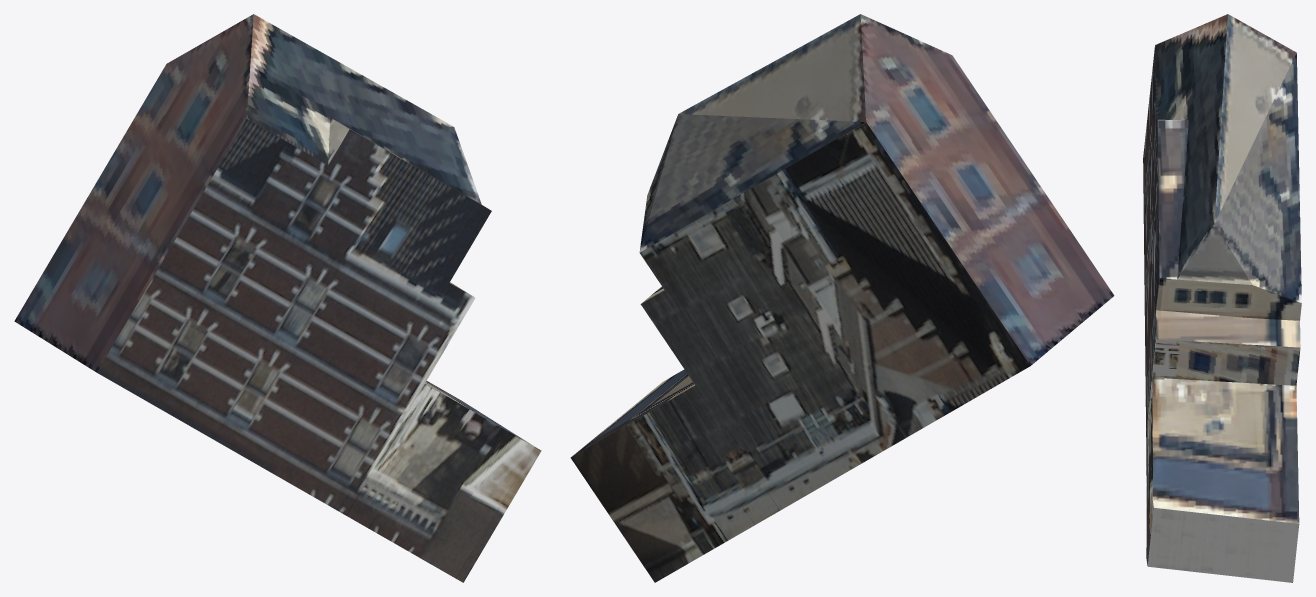
3 views of the same model, side by side, from view 1: azimuth 30°, elevation 25°; view 2: azimuth 150°, elevation 25°; view 3: azimuth 270°, elevation 25° (orthographic). The views are drawn at different scales.
Visible parts, largest first — view 1: BAG_0599100000671567 (×5); view 2: BAG_0599100000671567 (×3); view 3: BAG_0599100000671567 (×4).
Part boxes in pixels (box(x1,y1,x2,y2)): BAG_0599100000671567 (×5): box(14, 14, 541, 582); BAG_0599100000671567 (×3): box(570, 14, 1114, 582); BAG_0599100000671567 (×4): box(1143, 14, 1301, 582).
Bounding box in the file's own units: 18.42 × 22.62 × 6.52.
5 materials, 5 textured.
